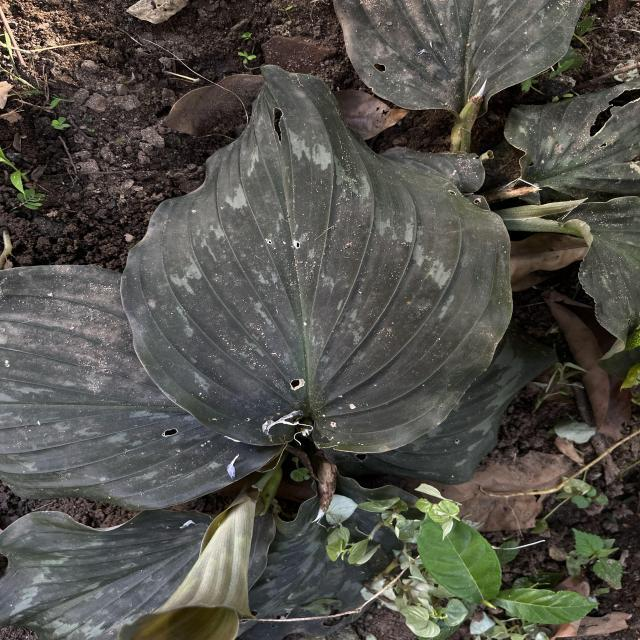Kaempferia galanga linn: (117, 62, 516, 458)
